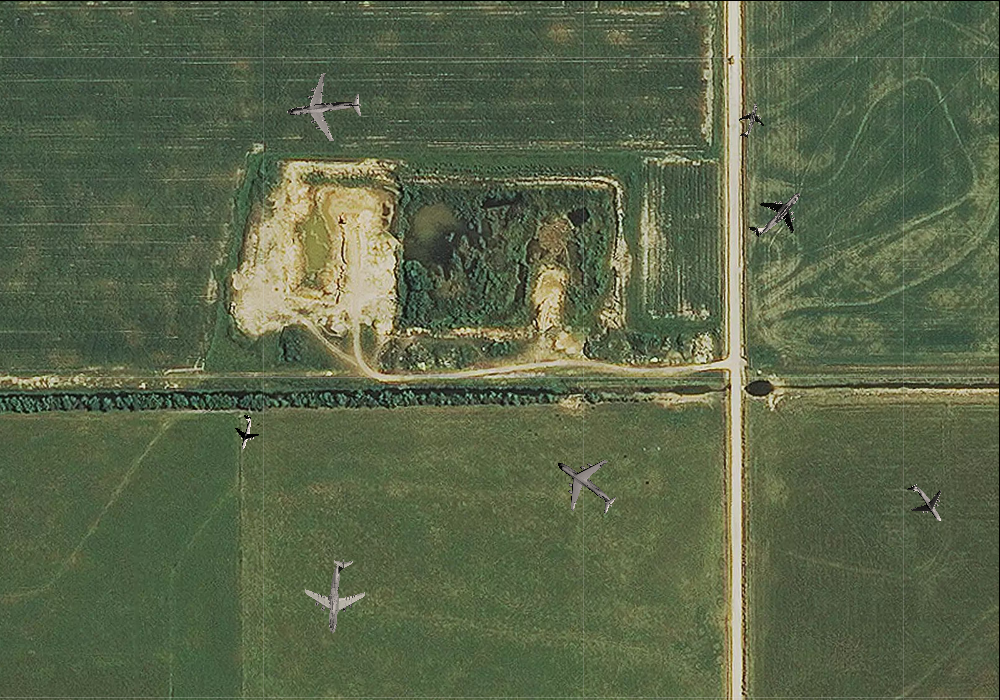plane: (537, 437, 633, 532), (736, 172, 817, 254), (282, 68, 365, 147), (300, 557, 374, 636), (896, 472, 956, 534), (730, 98, 770, 141), (225, 411, 264, 453)
